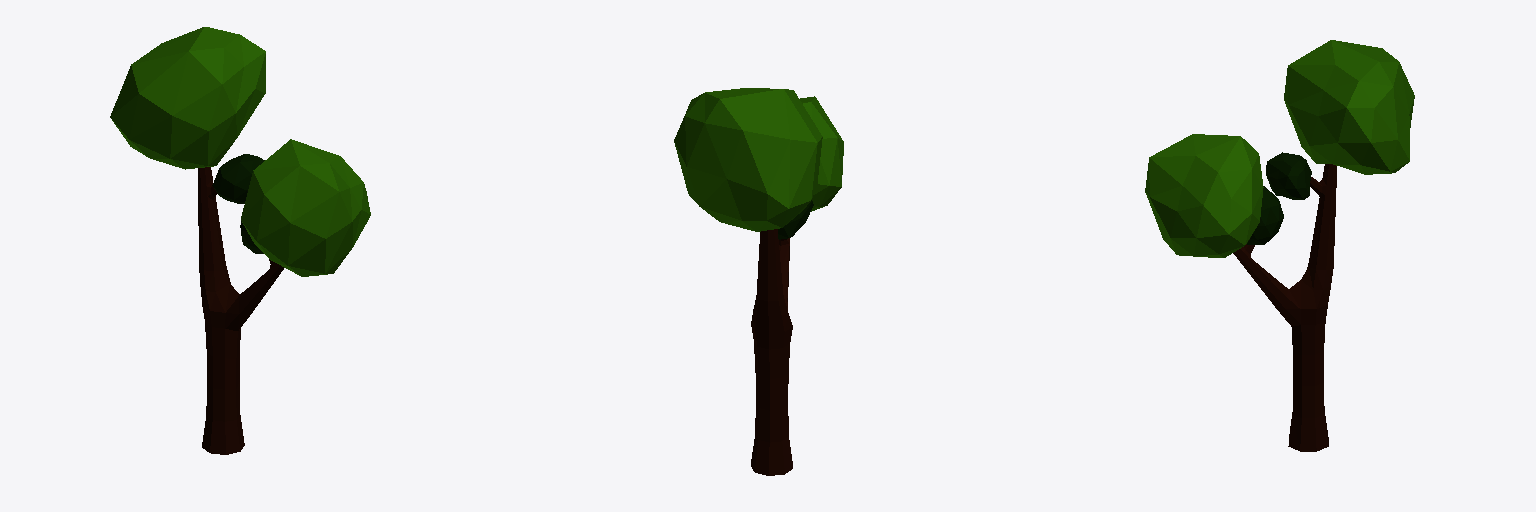
Rendered from tree3.obj.
The picture shows the model from 3 angles: view 1: azimuth 30°, elevation 25°; view 2: azimuth 150°, elevation 25°; view 3: azimuth 270°, elevation 25°; orthographic projection.
Parts seen in each view (by area): view 1: t7-green_Cylinder.007; view 2: t7-green_Cylinder.007; view 3: t7-green_Cylinder.007.
Part boxes in pixels (x1,y1,x2,y2): t7-green_Cylinder.007: (110,27,370,454); t7-green_Cylinder.007: (674,88,843,475); t7-green_Cylinder.007: (1145,40,1414,451).
Size of the model in its own units: 4.54 by 10.02 by 6.25.